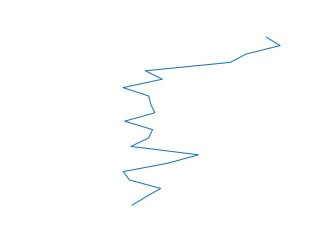crevasseRiverChannelBar: (121, 34, 285, 210)
